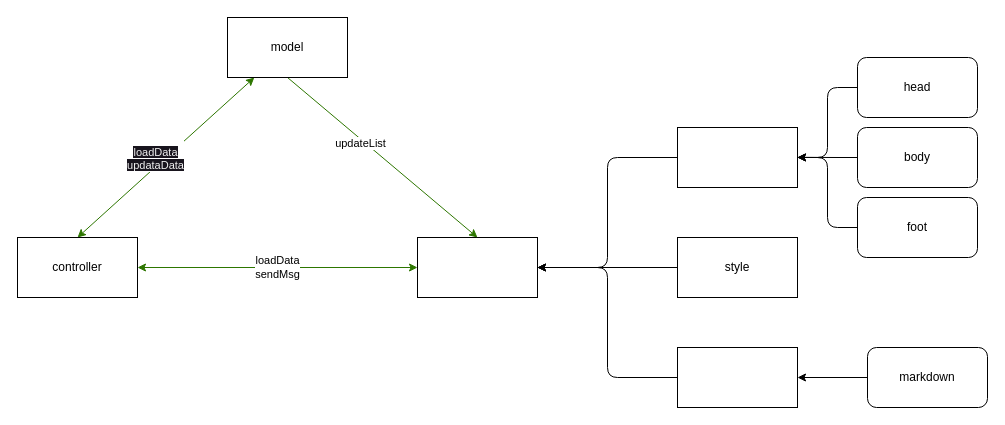
The diagram is 1005 pixels wide and 425 high, and some of its shapes have lost their labels. Each missing label, with the box of its shape:
script: (676, 346, 798, 408)
struct: (676, 126, 798, 188)
view: (416, 236, 538, 298)
